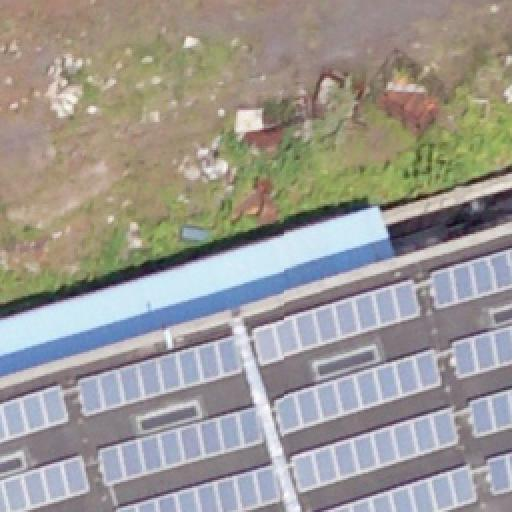solar-panel: (272, 346, 448, 438), (289, 404, 463, 492), (253, 278, 427, 366), (100, 404, 268, 488), (79, 335, 249, 417), (115, 464, 285, 512), (318, 464, 482, 512), (1, 454, 95, 512), (432, 250, 512, 310), (0, 381, 72, 443), (449, 322, 511, 378), (468, 388, 512, 436), (484, 450, 512, 494)
